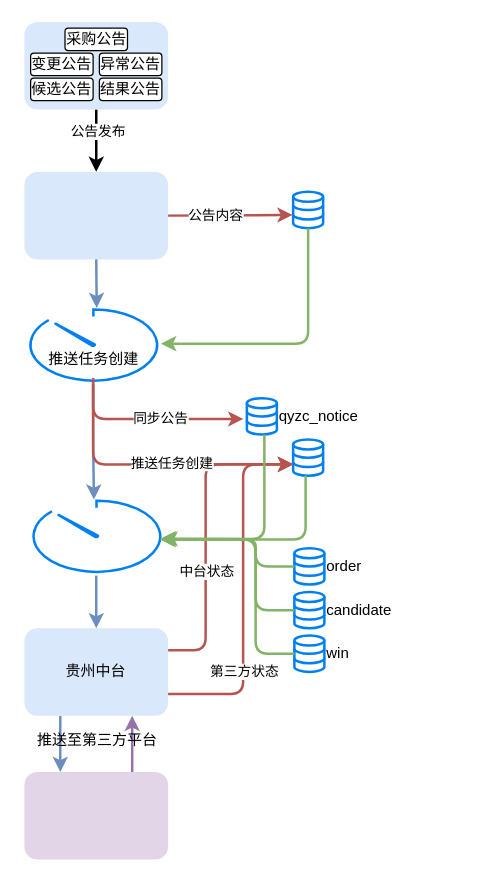
The diagram is 504 pixels wide and 881 high, and some of its shapes have lost their labels. The centre of each missing label's shape, as x and y in pixels:
"purchase_notice" belongs at (307,209).
"qyzc_notice_push_task" belongs at (307,457).
"公告推送" belongs at (96,537).
"持久化公告" belongs at (96,215).
"第三方平台" belongs at (96,815).
